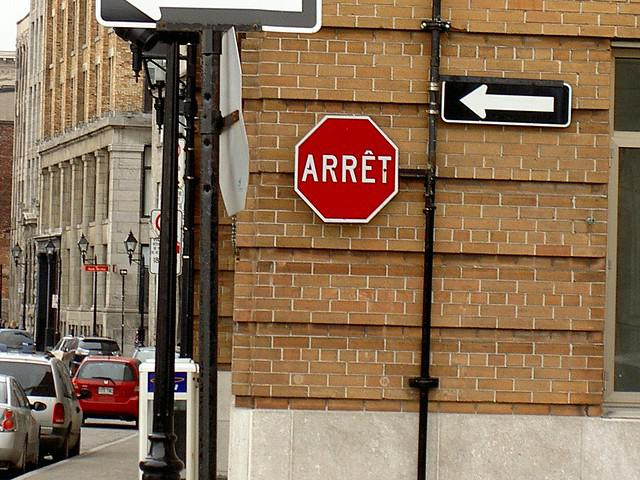stop: (291, 111, 406, 230)
